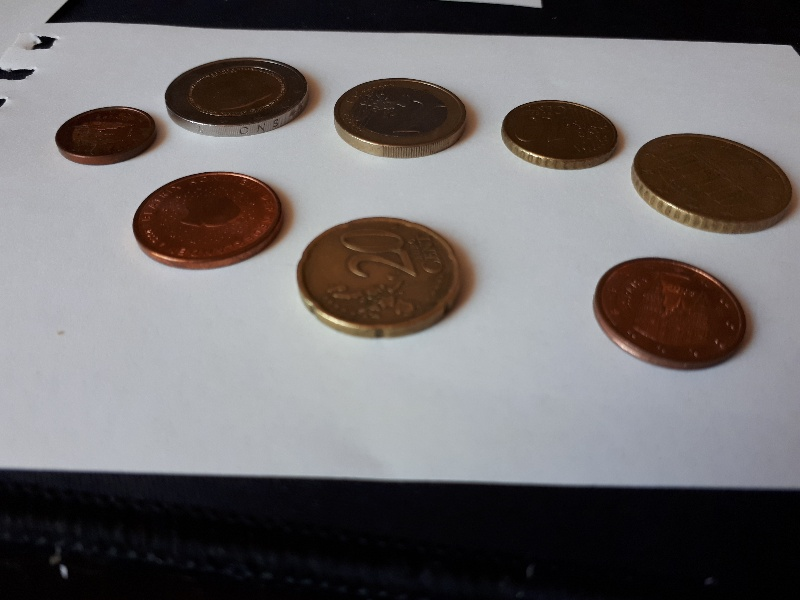1 cent: (53, 102, 156, 170)
1 euro: (333, 75, 472, 159)
10 cent: (499, 99, 624, 172)
2 cent: (592, 256, 751, 371)
2 euro: (162, 56, 319, 138)
20 cent: (295, 212, 471, 344)
5 cent: (131, 165, 286, 272)
50 cent: (633, 131, 793, 233)
